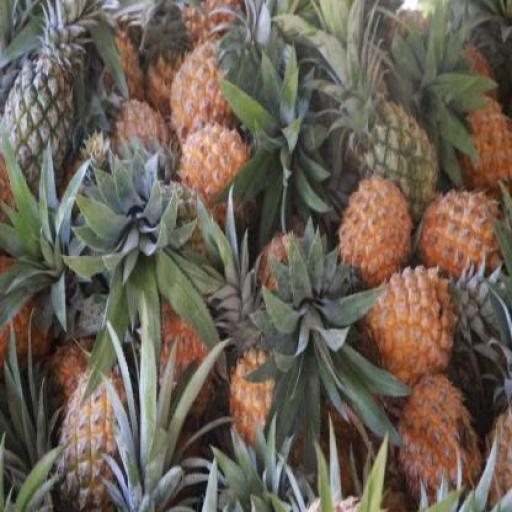------------------------------: (60, 376, 130, 511)
Pineapple - v8 v1: (394, 374, 484, 505), (366, 264, 452, 386), (337, 178, 414, 293), (419, 186, 503, 283), (169, 54, 240, 156), (176, 125, 249, 213)
